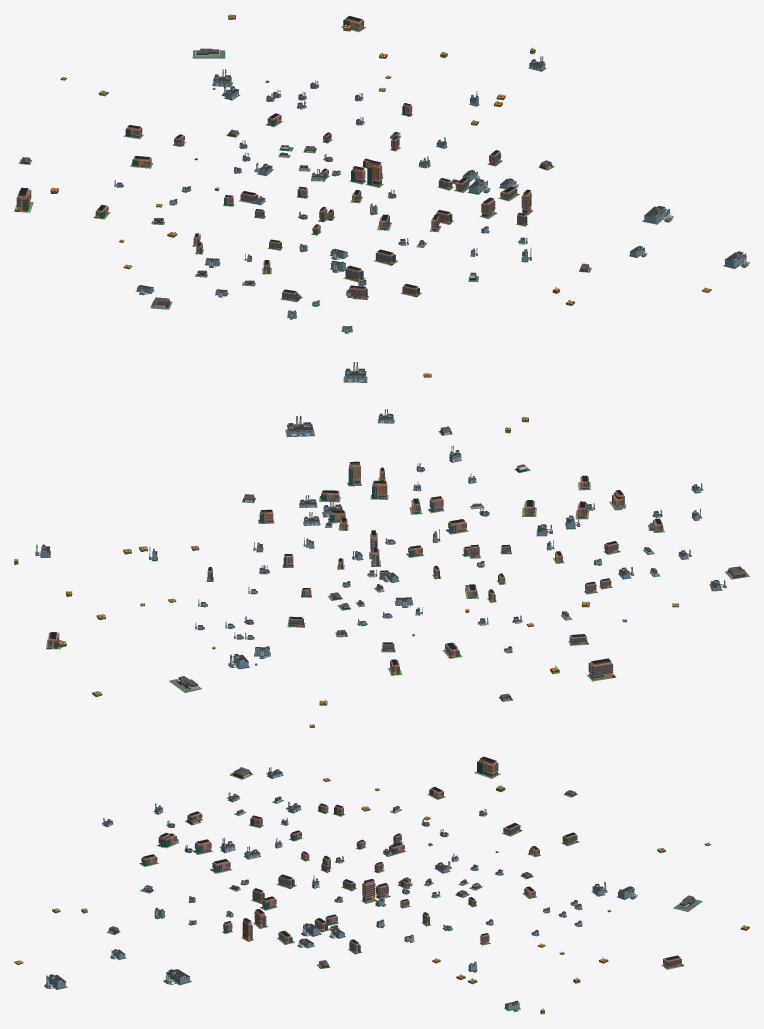
Rendered from moscow2.glb.
3 renders of one model, top to bottom at view 1: azimuth 30°, elevation 25°; view 2: azimuth 150°, elevation 25°; view 3: azimuth 270°, elevation 25°, orthographic. The views are drawn at different scales.
Visible parts, largest first — view 1: moscow; view 2: moscow; view 3: moscow.
Part boxes in pixels (bbox=[...]): moscow: bbox=[14, 14, 749, 333]; moscow: bbox=[14, 362, 749, 727]; moscow: bbox=[14, 756, 749, 1014].
Bounding box in the file's own units: 1280 × 49.58 × 1614.
Materials: 8 (8 with a texture image).
